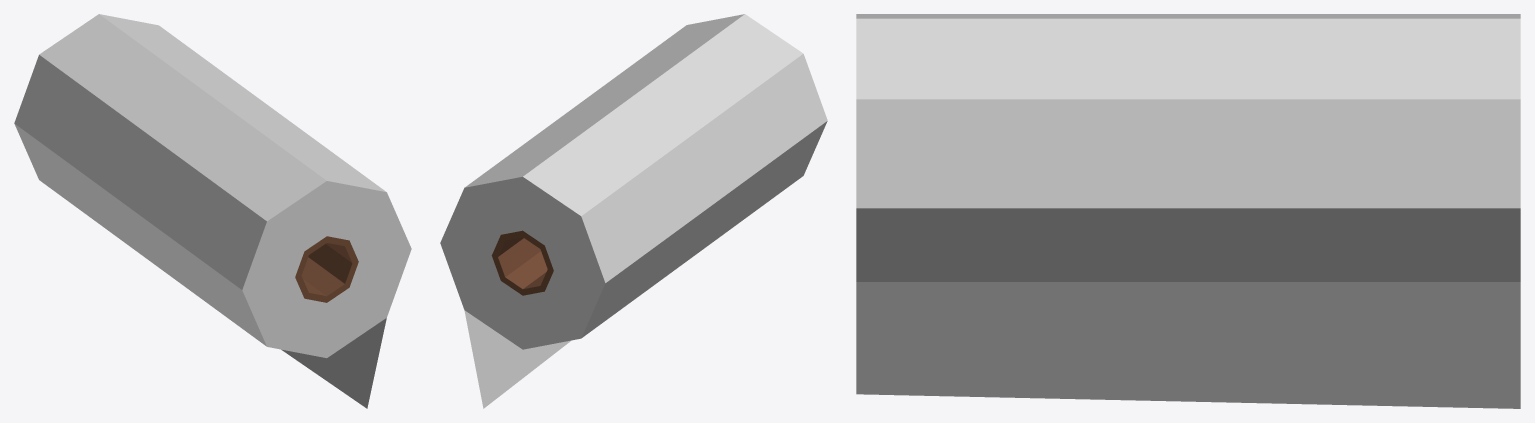
Rendered from PaperTowelRollHanging.fbx.
The picture shows the model from 3 angles, left to right: view 1: azimuth 30°, elevation 25°; view 2: azimuth 150°, elevation 25°; view 3: azimuth 270°, elevation 25°; orthographic projection. The views are drawn at different scales.
Parts seen in each view (by area): view 1: PaperTowelRollHanging; view 2: PaperTowelRollHanging; view 3: PaperTowelRollHanging.
Part boxes in pixels (left/top/right/bottom): PaperTowelRollHanging: left=14, top=14, right=411, bottom=408; PaperTowelRollHanging: left=440, top=14, right=827, bottom=408; PaperTowelRollHanging: left=856, top=14, right=1520, bottom=408.
Size of the model in its own units: 18.32 by 25.62 by 42.69.
